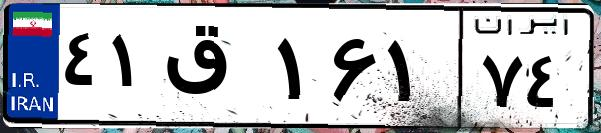1: (270, 28, 330, 110), (385, 28, 445, 110), (110, 28, 158, 98)
4: (57, 26, 110, 100), (525, 38, 570, 115)
6: (330, 28, 385, 110)
7: (475, 38, 525, 113)
ق: (158, 20, 270, 120)
